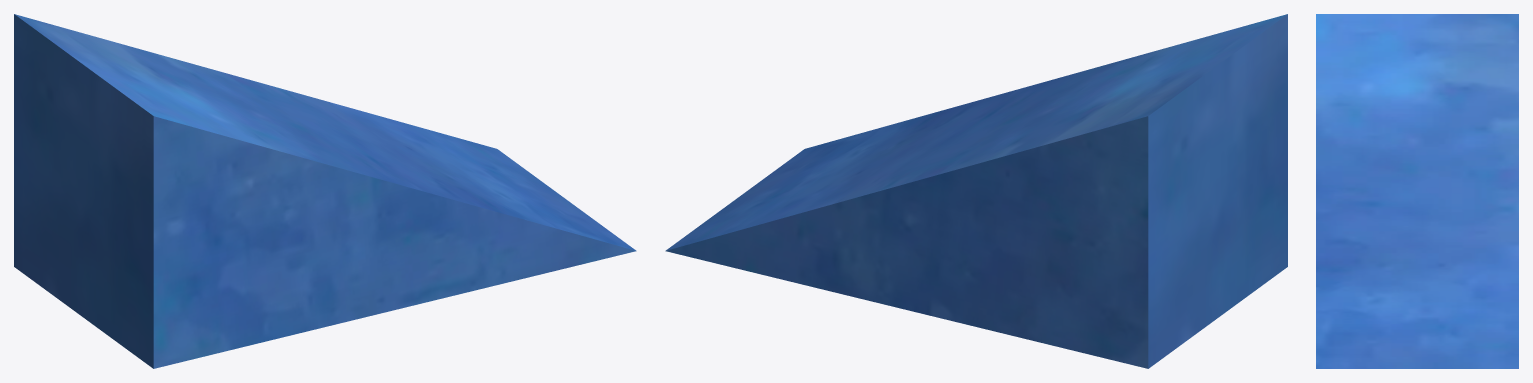
The picture shows the model from 3 angles, left to right: view 1: azimuth 30°, elevation 25°; view 2: azimuth 150°, elevation 25°; view 3: azimuth 270°, elevation 25°; orthographic projection. The views are drawn at different scales.
Parts seen in each view (by area): view 1: SM_DK_8m_Ramp_01_LOD0; view 2: SM_DK_8m_Ramp_01_LOD0; view 3: SM_DK_8m_Ramp_01_LOD0.
Boxes of the visible parts, x1,y1,x2,y2 form: SM_DK_8m_Ramp_01_LOD0: (14, 14, 636, 368); SM_DK_8m_Ramp_01_LOD0: (665, 14, 1287, 368); SM_DK_8m_Ramp_01_LOD0: (1316, 14, 1518, 368).
Size of the model in its own units: 8 by 4 by 4.
1 material, 1 textured.
